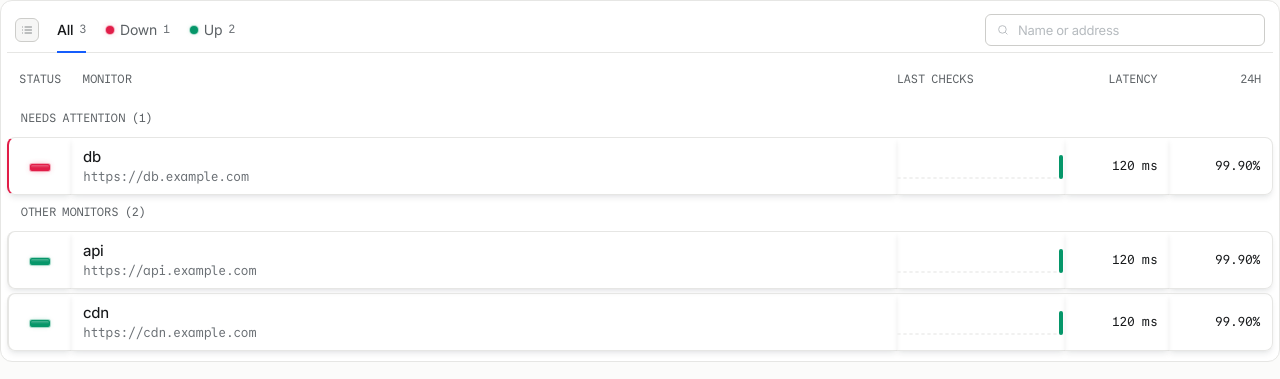
Scenario: Dashboard › narrows the list to one status when its tab is pressed
The image size is (1280, 379).
Click the button "Down 1" at (138,30), box x1=98 y1=7 x2=178 y2=52
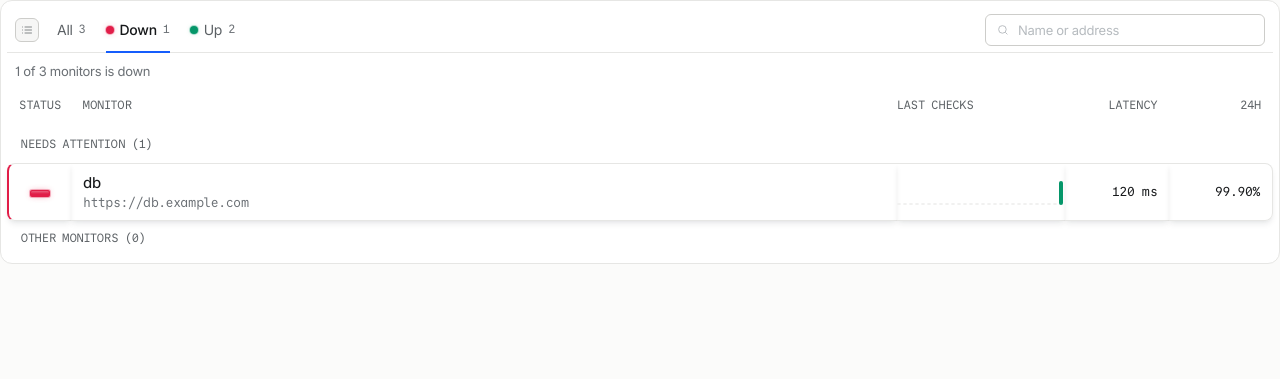
Expected: the text "1 of 3 monitors is down" is shown, x1=15 y1=63 x2=150 y2=79
